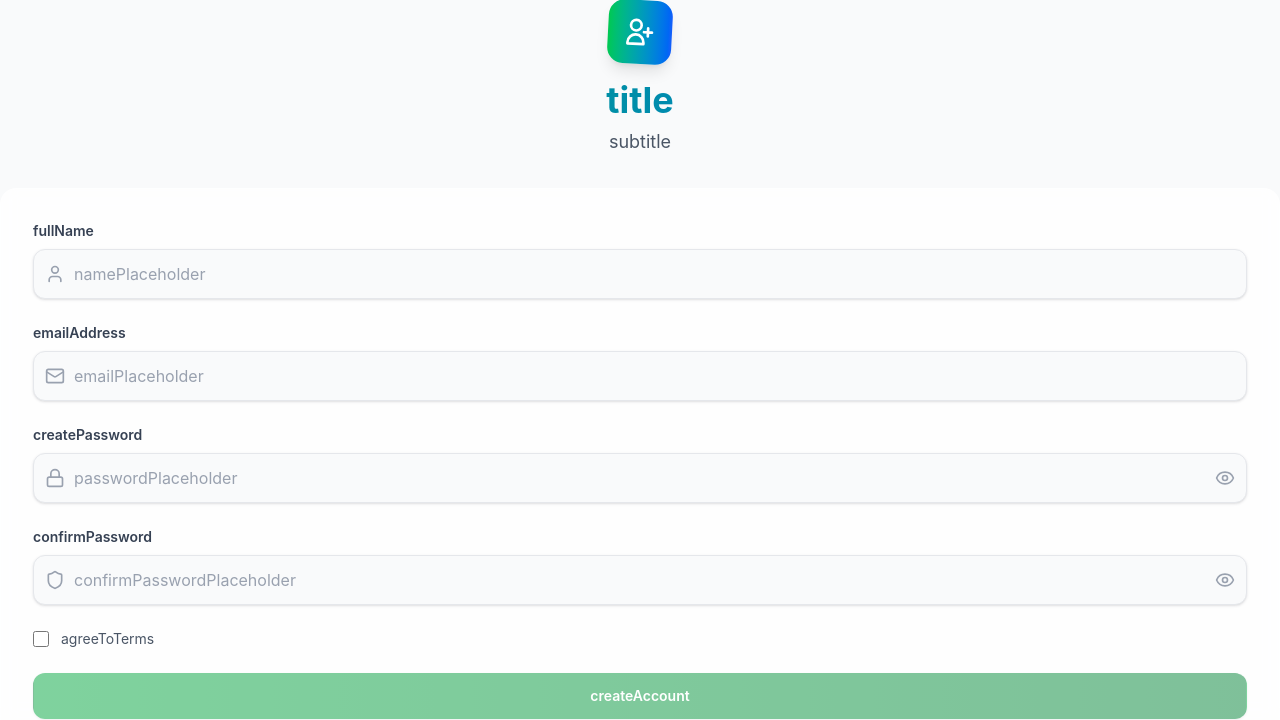
Scenario: RegistrationForm › stays on the page when the sign-up is refused
This screenshot has width=1280, height=720.
Click the checkbox at (41, 639), box [33,631,49,647]
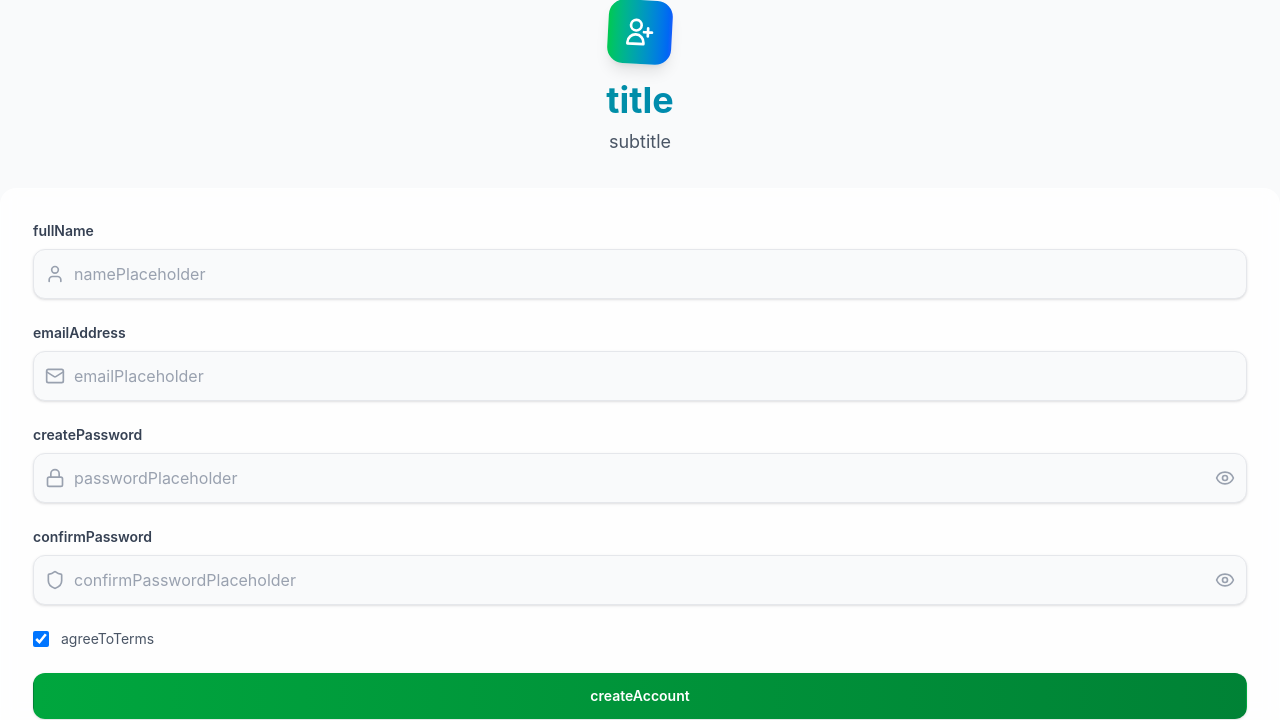
Submit the form
Wait 2000 ms
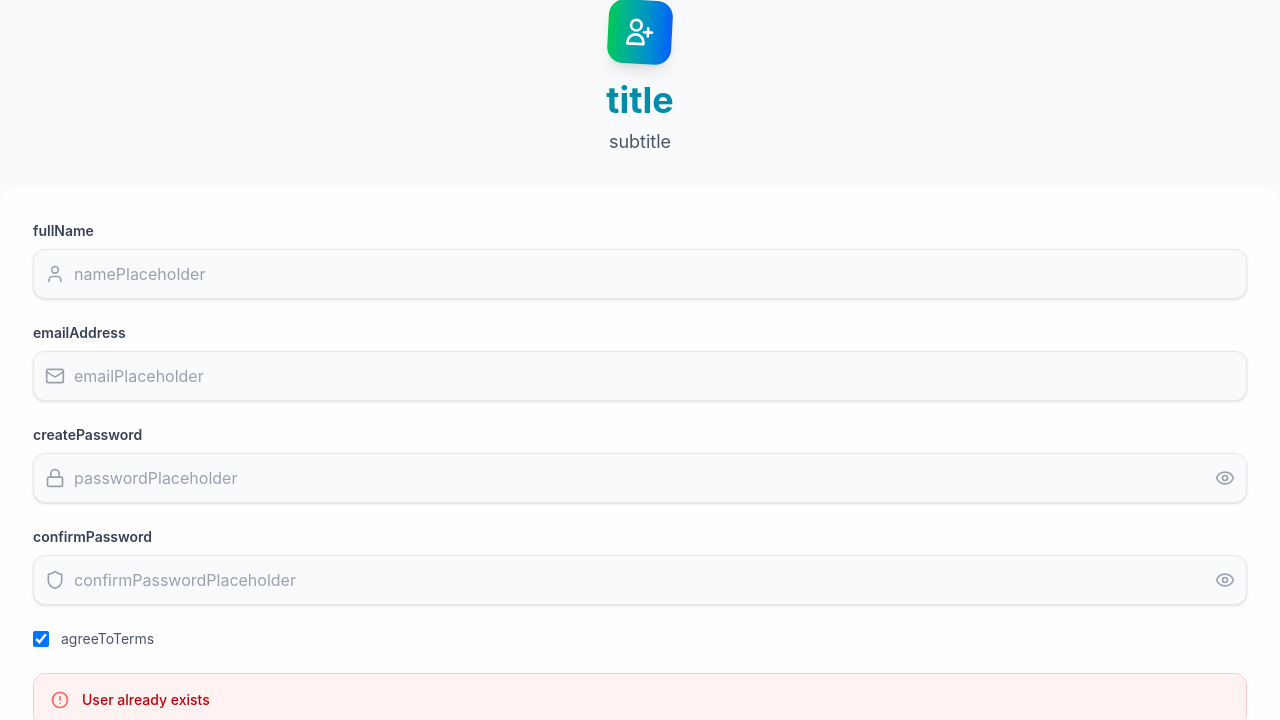
Check: the text "User already exists" is shown, box [82,691,210,708]
